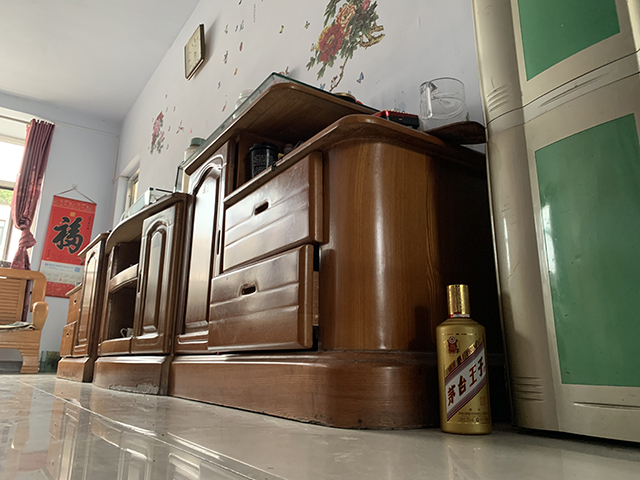cabinet: (55, 77, 512, 434)
curtain: (13, 118, 54, 267)
stool: (1, 266, 52, 376)
